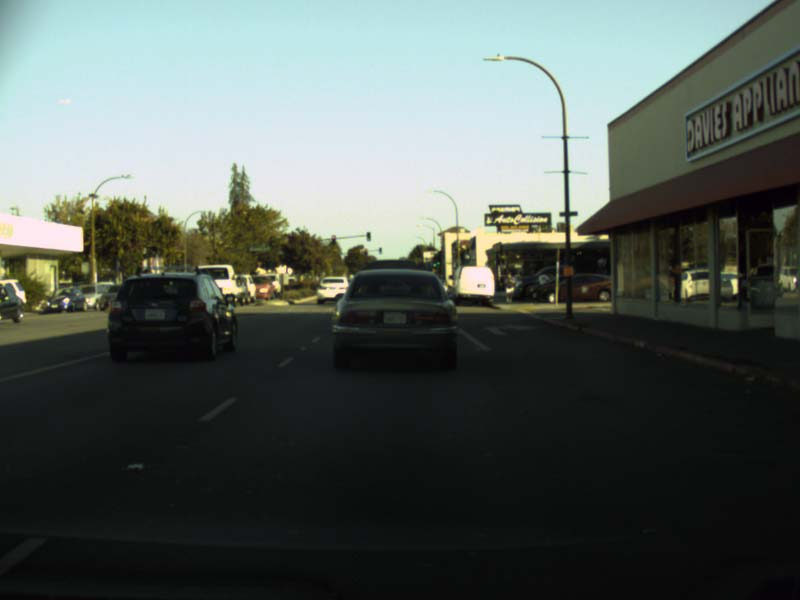Red: (331, 235, 334, 244)
